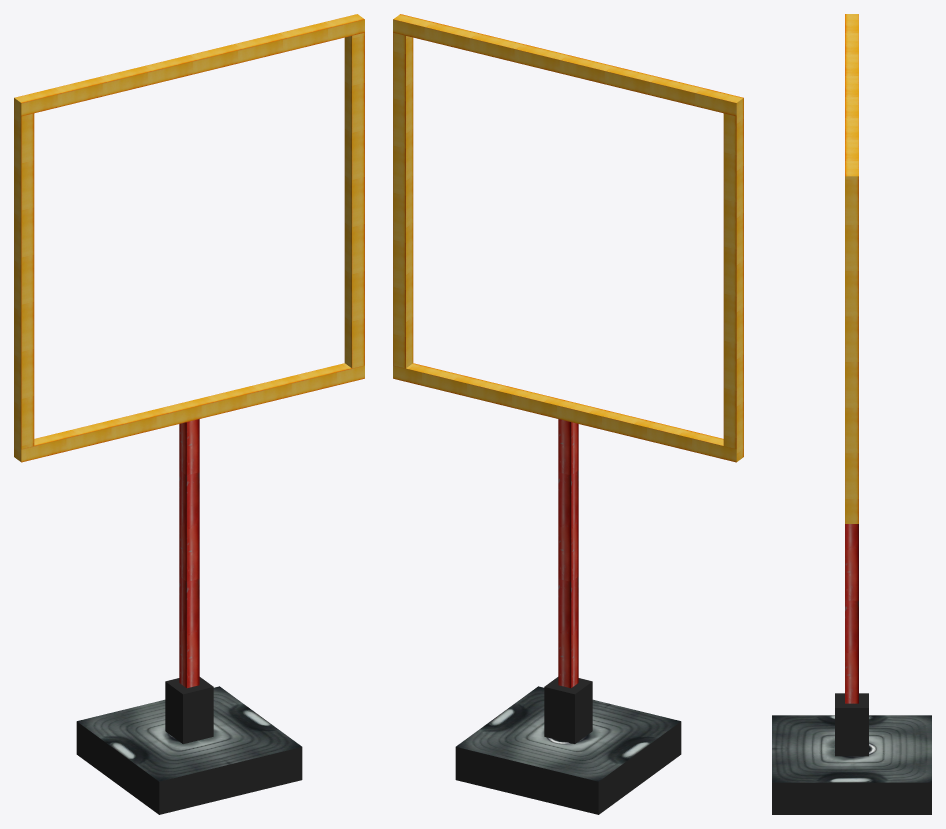
File: dronerace_gate.dae
3 renders of one model, left to right at view 1: azimuth 30°, elevation 25°; view 2: azimuth 150°, elevation 25°; view 3: azimuth 270°, elevation 25°, orthographic. The views are drawn at different scales.
Visible parts, largest first — view 1: instance_0 (×5); view 2: instance_0 (×5); view 3: instance_0 (×5).
Part boxes in pixels (<box>): instance_0 (×5): <box>14,14,364,814</box>; instance_0 (×5): <box>393,14,743,814</box>; instance_0 (×5): <box>772,14,931,814</box>.
Bounding box in the file's own units: 42.52 × 17.72 × 83.86.
5 materials, 3 textured.
